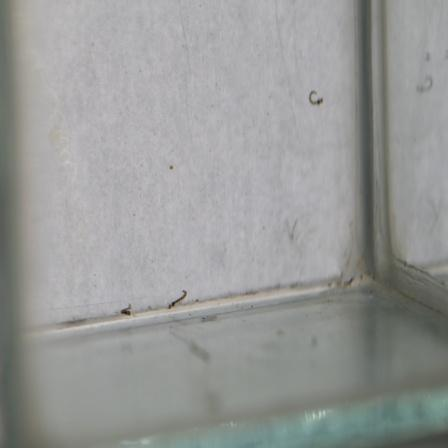Jentik-Nyamuk: (162, 288, 192, 312), (304, 86, 327, 110), (116, 299, 134, 320)
